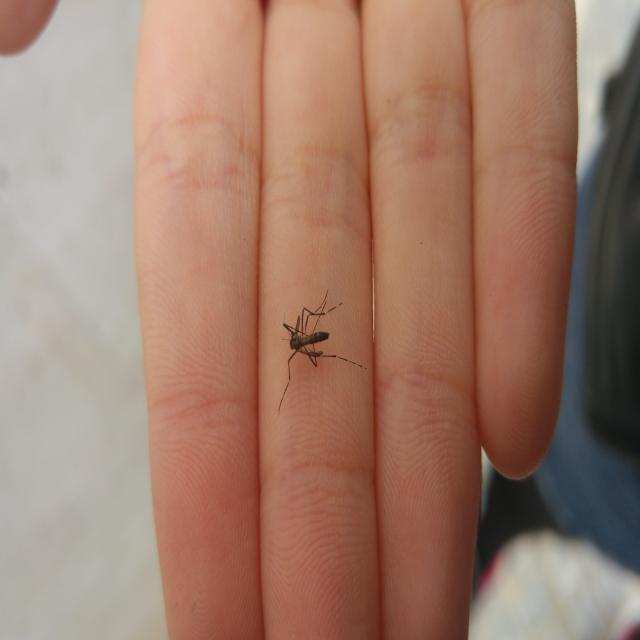albopictus: (274, 281, 364, 416)
